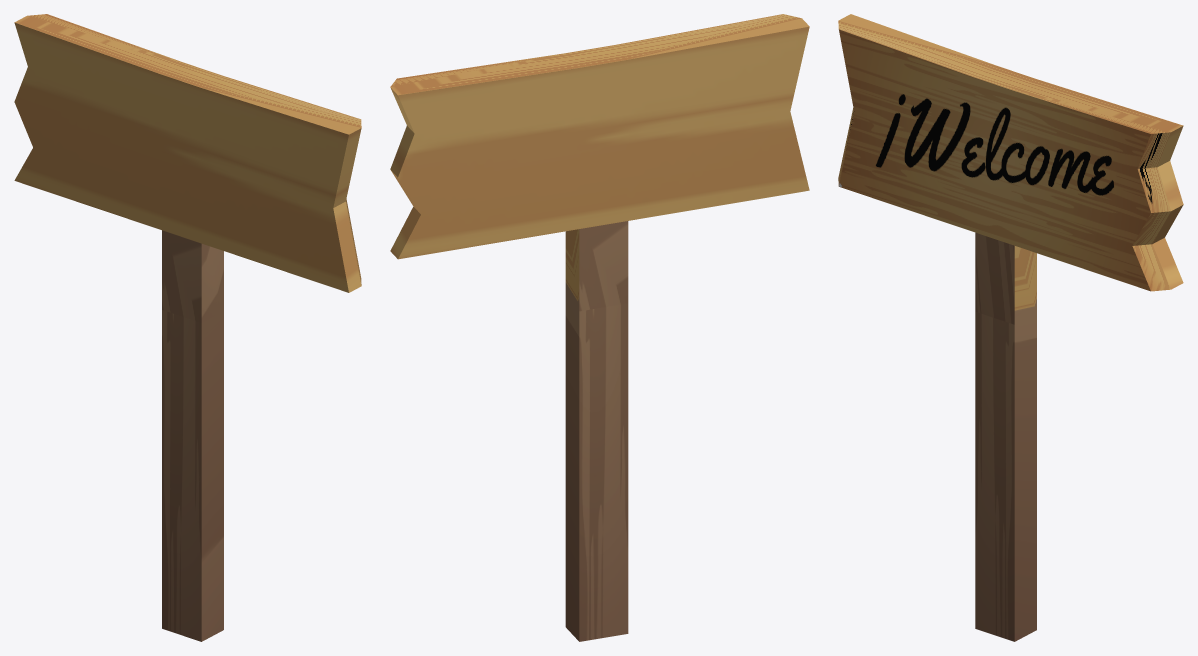
The model's file is poster.glb.
The picture shows the model from 3 angles, left to right: view 1: azimuth 90°, elevation 25°; view 2: azimuth 150°, elevation 25°; view 3: azimuth 270°, elevation 25°; orthographic projection. The views are drawn at different scales.
Visible parts, largest first — view 1: cartel.welcome; view 2: cartel.welcome; view 3: cartel.welcome.
Part boxes in pixels (box(x1,y1,x2,y2)): cartel.welcome: box(14, 14, 361, 641); cartel.welcome: box(390, 14, 809, 641); cartel.welcome: box(838, 14, 1183, 641).
Bounding box in the file's own units: 0.4552 × 0.9787 × 0.5532.
Materials: 1 (1 with a texture image).
